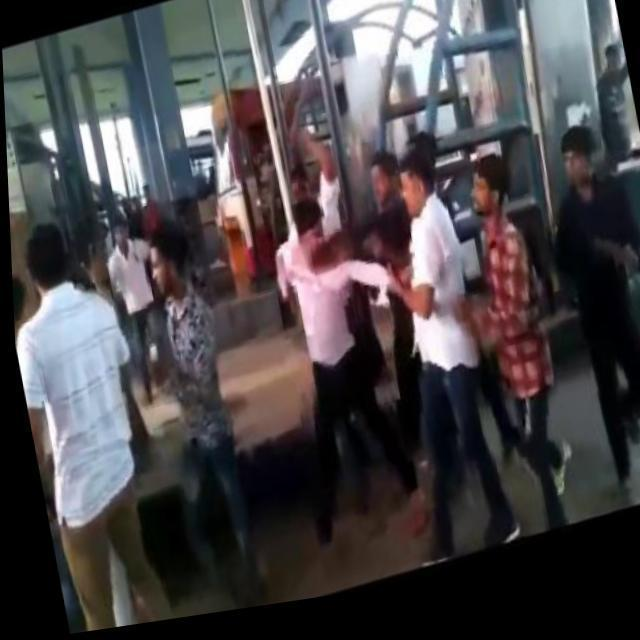fight: (245, 100, 472, 567)
